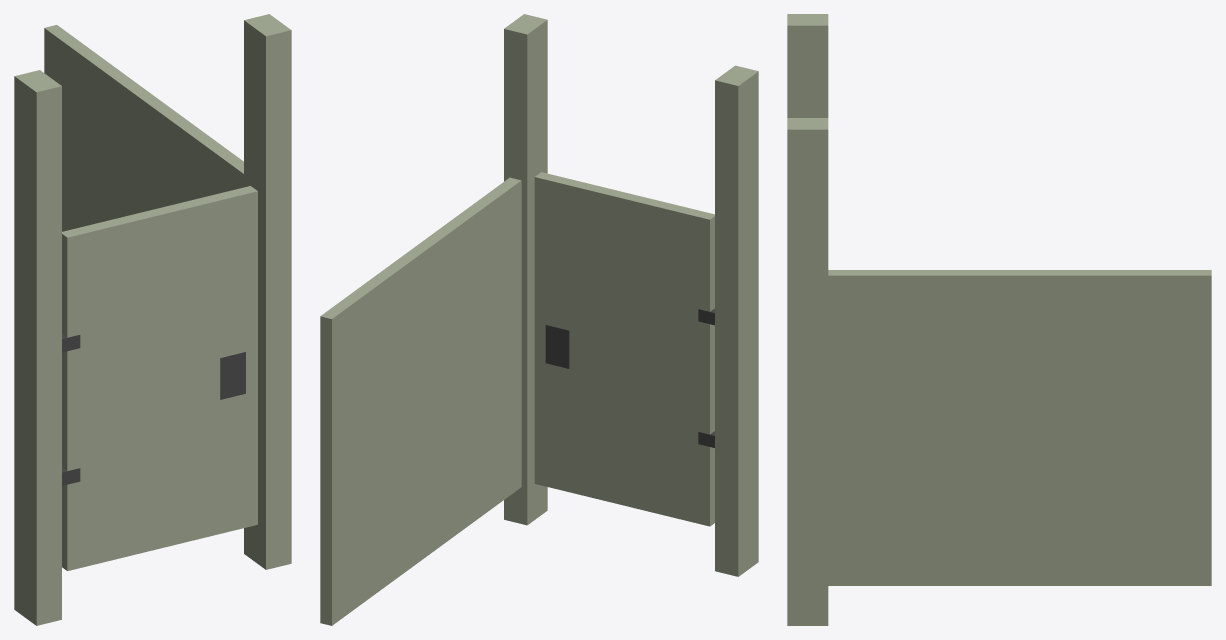
The model's file is toiletBooth1.fbx.
3 views of the same model, side by side, from view 1: azimuth 30°, elevation 25°; view 2: azimuth 150°, elevation 25°; view 3: azimuth 270°, elevation 25° (orthographic). The views are drawn at different scales.
Parts seen in each view (by area): view 1: Cube, Door; view 2: Cube, Door; view 3: Cube.
Part boxes in pixels (x1,y1,x2,y2): Cube: [14, 14, 291, 625]; Door: [62, 186, 257, 570]; Cube: [320, 14, 758, 625]; Door: [534, 172, 714, 526]; Cube: [787, 14, 1211, 625].
Size of the model in its own units: 200 by 400 by 310.
